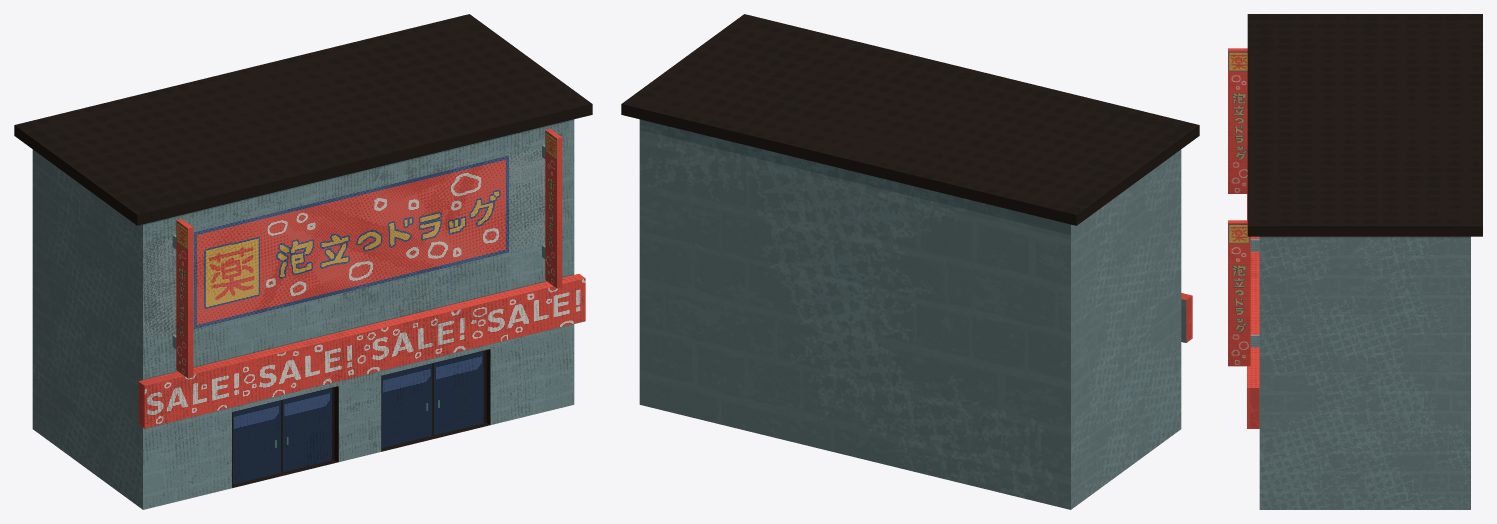
Rendered from building_2.fbx.
3 renders of one model, left to right at view 1: azimuth 30°, elevation 25°; view 2: azimuth 150°, elevation 25°; view 3: azimuth 270°, elevation 25°, orthographic. The views are drawn at different scales.
Parts seen in each view (by area): view 1: Building_2_Base; view 2: Building_2_Base; view 3: Building_2_Base.
Part boxes in pixels (box(x1,y1,x2,y2)): Building_2_Base: box(14, 14, 592, 509); Building_2_Base: box(621, 14, 1199, 509); Building_2_Base: box(1228, 14, 1482, 509).
Size of the model in its own units: 1901 by 1207 by 963.
